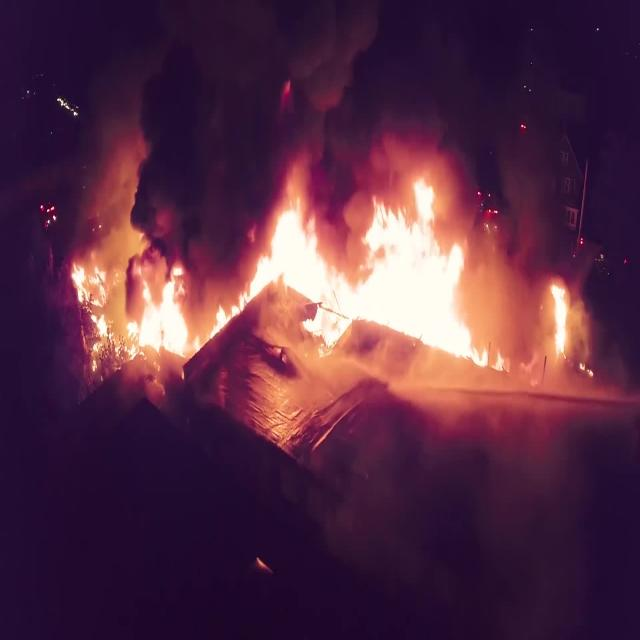Fire: (260, 184, 486, 356), (68, 245, 121, 351), (132, 272, 191, 354), (548, 276, 570, 361)
Smoke: (149, 0, 431, 147)
